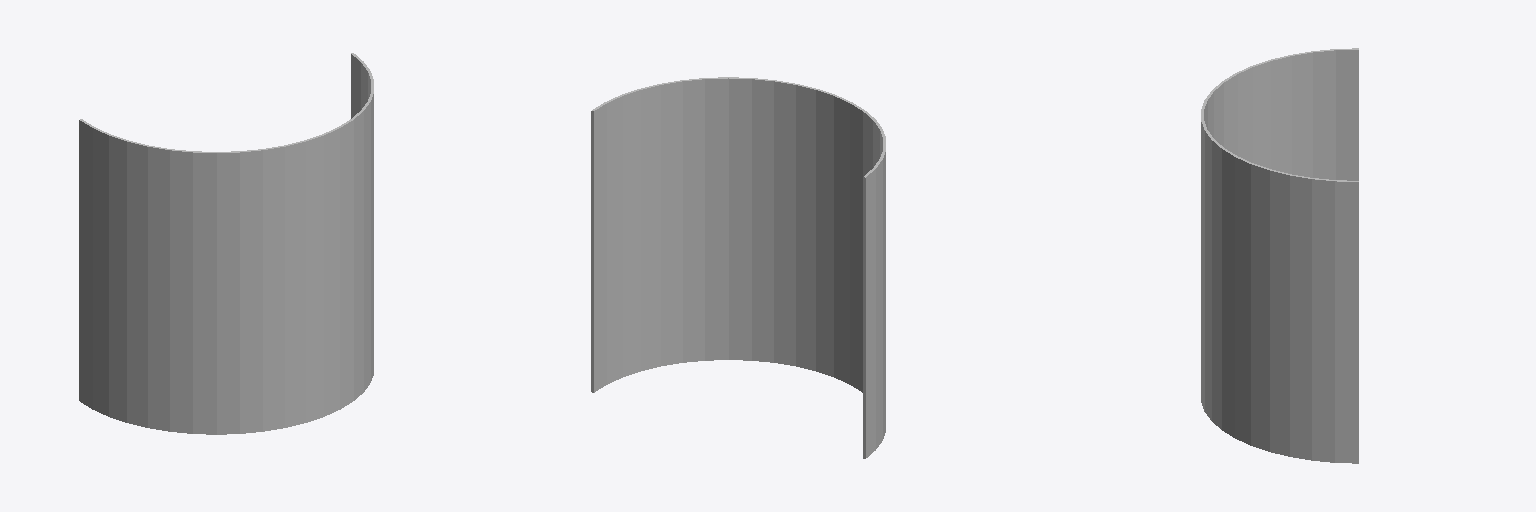
File: roof_low_poly.obj
The picture shows the model from 3 angles: view 1: azimuth 30°, elevation 25°; view 2: azimuth 150°, elevation 25°; view 3: azimuth 270°, elevation 25°; orthographic projection.
Parts seen in each view (by area): view 1: Body2; view 2: Body2; view 3: Body2.
Part boxes in pixels (x1,y1,x2,y2): Body2: (79, 53, 373, 434); Body2: (591, 77, 885, 458); Body2: (1201, 48, 1358, 463).
Bounding box in the file's own units: 1.02 × 1 × 0.5086.